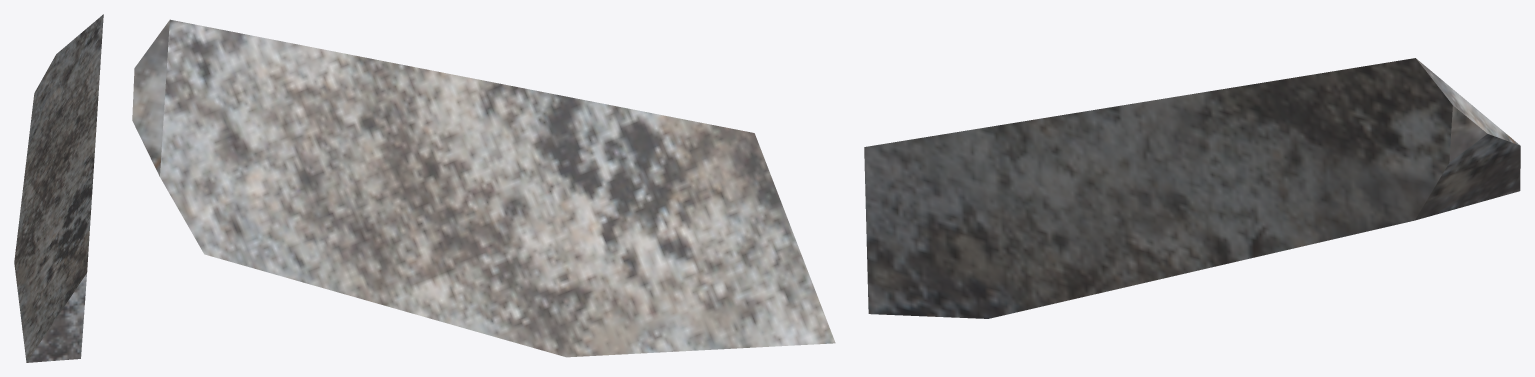
File: Asteroid_Medium_001_02_001_03_006.fbx
3 renders of one model, left to right at view 1: azimuth 30°, elevation 25°; view 2: azimuth 150°, elevation 25°; view 3: azimuth 270°, elevation 25°, orthographic. The views are drawn at different scales.
Parts seen in each view (by area): view 1: Asteroid_Medium_001_02_001_03_006; view 2: Asteroid_Medium_001_02_001_03_006; view 3: Asteroid_Medium_001_02_001_03_006.
Part boxes in pixels (left/top/right/bottom): Asteroid_Medium_001_02_001_03_006: left=14, top=14, right=103, bottom=362; Asteroid_Medium_001_02_001_03_006: left=132, top=19, right=835, bottom=357; Asteroid_Medium_001_02_001_03_006: left=864, top=58, right=1520, bottom=318.
Size of the model in its own units: 5.79 by 5.33 by 7.71.
